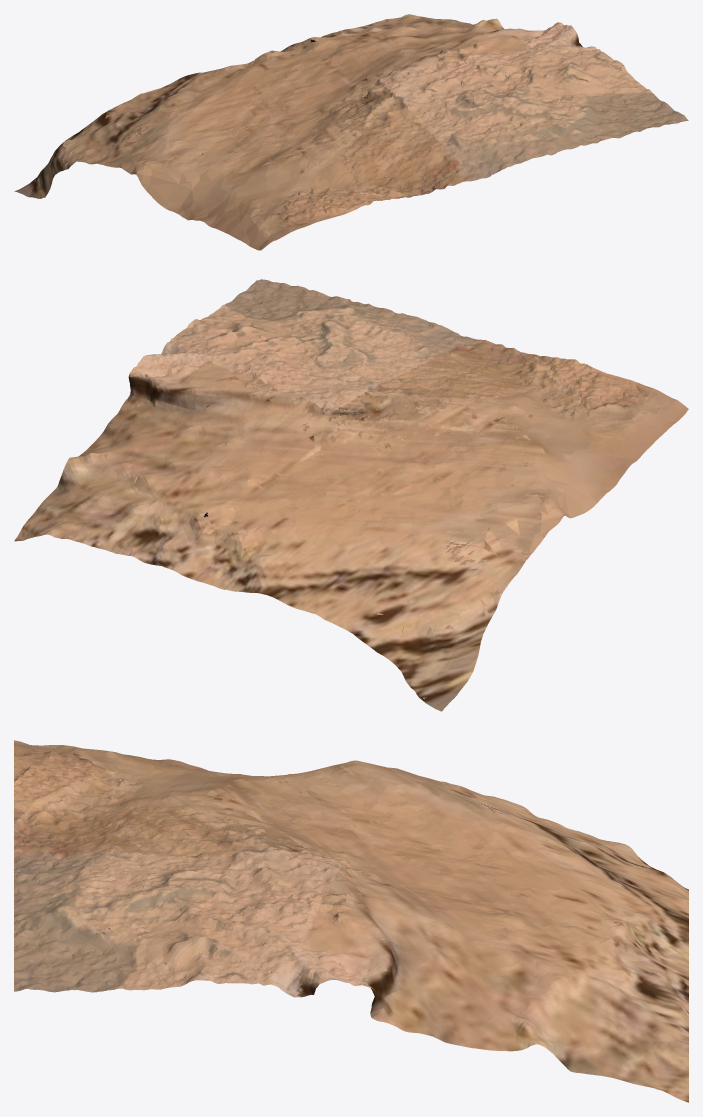
The picture shows the model from 3 angles, top to bottom: view 1: azimuth 30°, elevation 25°; view 2: azimuth 150°, elevation 25°; view 3: azimuth 270°, elevation 25°; orthographic projection. The views are drawn at different scales.
Size of the model in its own units: 1.04 by 0.3787 by 1.04.
3 materials, 3 textured.
